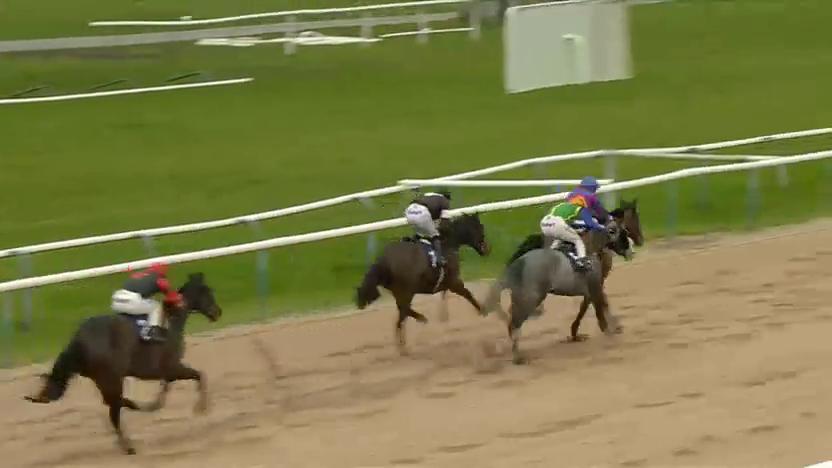jockey: (114, 263, 180, 346), (542, 199, 599, 268), (406, 190, 454, 265), (559, 178, 604, 232)
